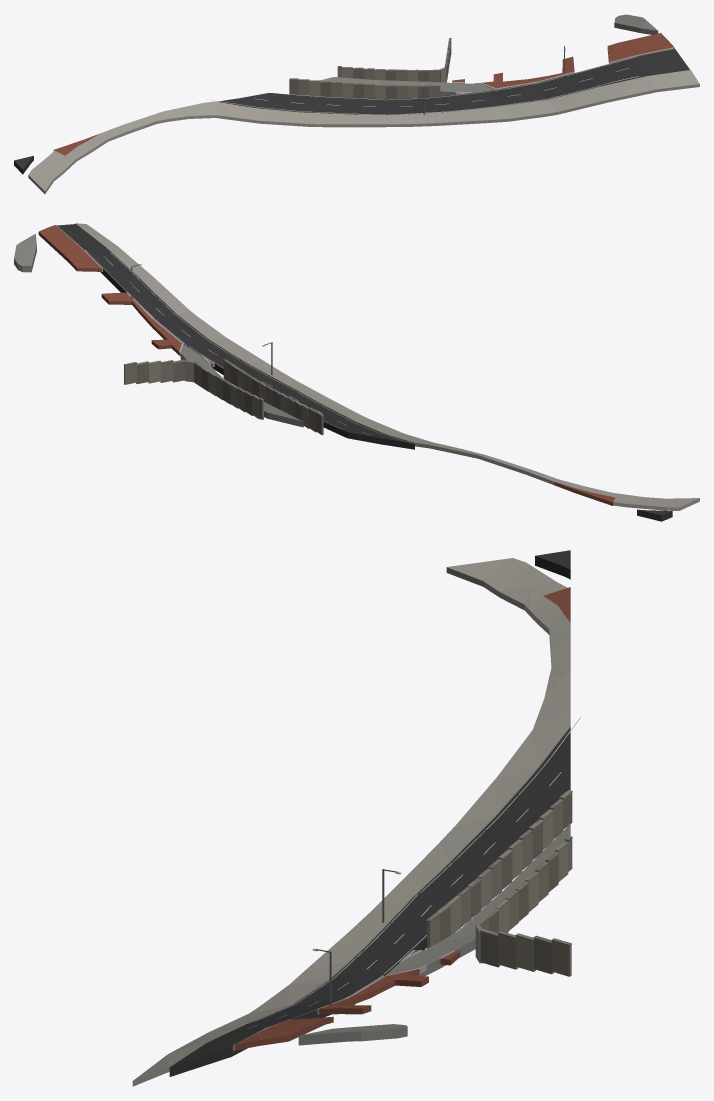
3 renders of one model, top to bottom at view 1: azimuth 30°, elevation 25°; view 2: azimuth 150°, elevation 25°; view 3: azimuth 270°, elevation 25°, orthographic. The views are drawn at different scales.
Bounding box in the file's own units: 147 × 13.42 × 49.43.
